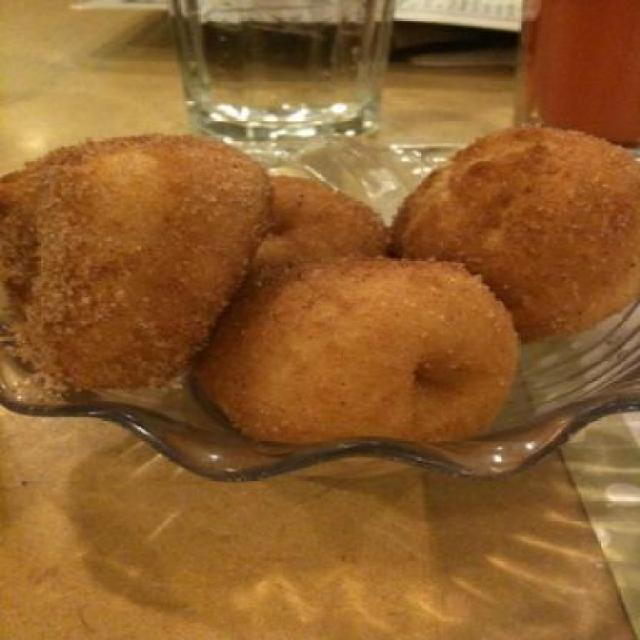Donuts: (9, 105, 638, 509)
